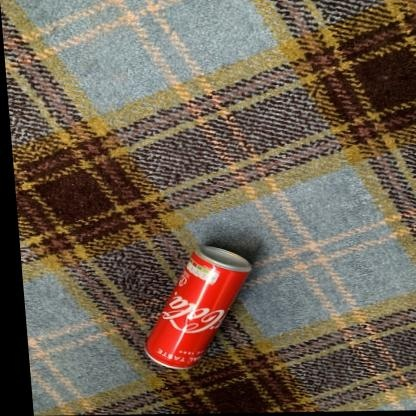trash: (145, 246, 250, 367)
